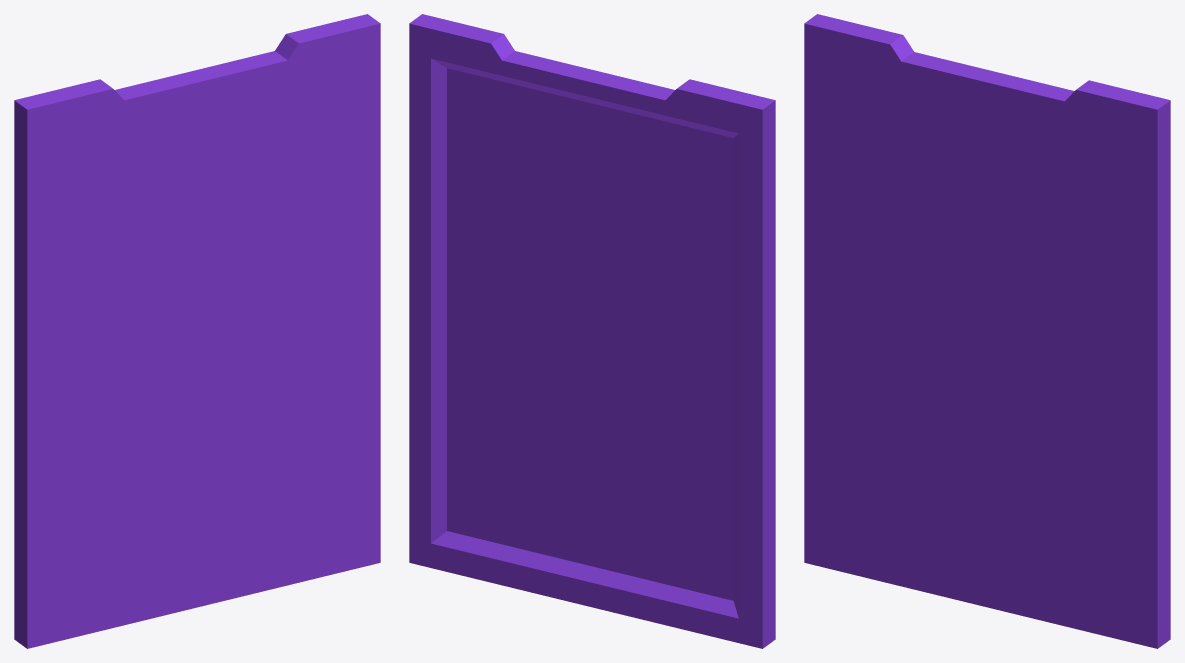
Rendered from GGJ-Cabinet-door-2.fbx.
3 renders of one model, left to right at view 1: azimuth 30°, elevation 25°; view 2: azimuth 150°, elevation 25°; view 3: azimuth 330°, elevation 25°, orthographic.
Parts seen in each view (by area): view 1: CabinetDoor2; view 2: CabinetDoor2; view 3: CabinetDoor2.
Boxes of the visible parts, x1,y1,x2,y2 form: CabinetDoor2: (14, 14, 380, 648); CabinetDoor2: (409, 14, 775, 648); CabinetDoor2: (804, 14, 1170, 648).
Bounding box in the file's own units: 156 × 10.01 × 228.
